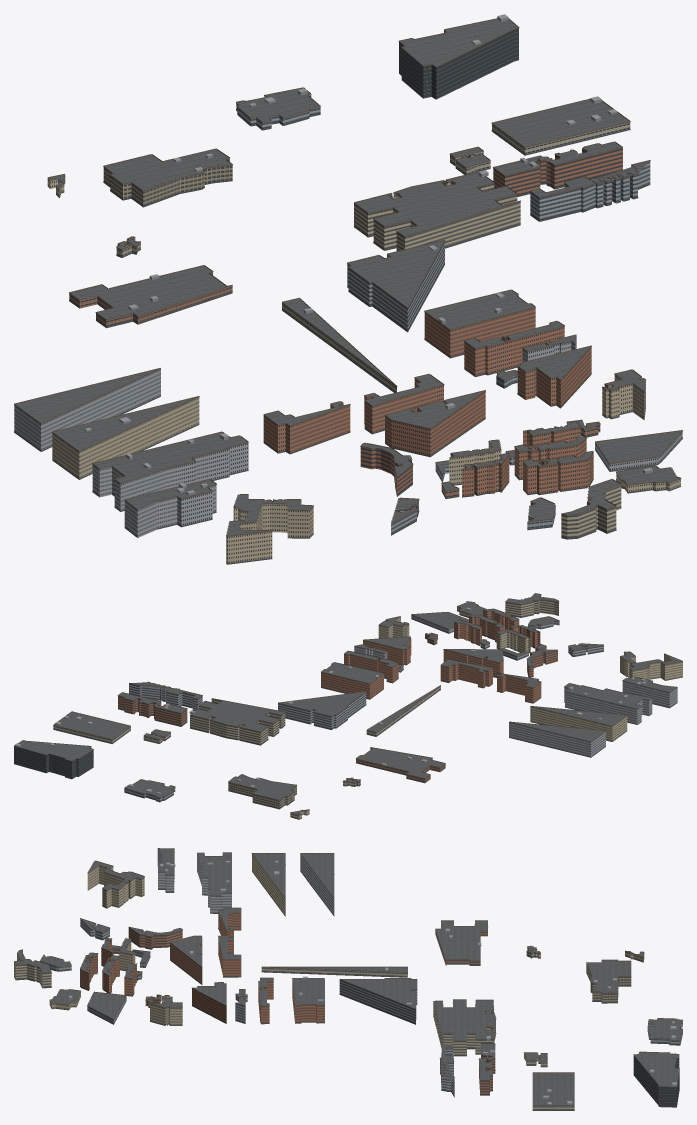
The model's file is north_buildings.glb.
3 renders of one model, top to bottom at view 1: azimuth 30°, elevation 25°; view 2: azimuth 150°, elevation 25°; view 3: azimuth 270°, elevation 25°, orthographic. The views are drawn at different scales.
Parts seen in each view (by area): view 1: N002, N007, N006, N005, N004, N003, N001, N008, N042, N010, N015, N009 (+21 smaller); view 2: N002, N006, N004, N007, N001, N005, N003, N010, N008, N042, N016, N015 (+19 smaller); view 3: N002, N001, N006, N003, N015, N007, N042, N008, N010, N004, N005, N012 (+17 smaller).
Part boxes in pixels (x1,y1,x2,y2): N002: (354, 170, 520, 250); N007: (92, 431, 248, 511); N006: (398, 14, 519, 99); N005: (52, 396, 199, 479); N004: (14, 368, 160, 451); N003: (69, 265, 232, 328); N001: (347, 239, 445, 332); N008: (103, 148, 232, 207); N042: (491, 96, 630, 155); N010: (424, 289, 535, 358); N015: (226, 494, 313, 564); N009: (384, 390, 485, 457); N002: (189, 698, 285, 745); N006: (14, 740, 93, 779); N004: (509, 721, 605, 757); N007: (564, 683, 652, 724); N001: (278, 691, 366, 729); N005: (530, 706, 627, 741); N003: (355, 747, 445, 783); N010: (321, 662, 384, 699); N008: (228, 774, 296, 809); N042: (53, 711, 130, 743); N016: (117, 692, 187, 726); N015: (620, 651, 682, 680); N002: (433, 999, 496, 1056); N001: (339, 978, 417, 1024); N006: (633, 1051, 679, 1107); N003: (435, 920, 487, 965); N015: (87, 860, 144, 908); N007: (197, 852, 231, 913); N042: (532, 1072, 574, 1110); N008: (586, 959, 631, 1003); N010: (292, 976, 324, 1023); N004: (300, 853, 334, 916); N005: (251, 853, 285, 916); N012: (261, 966, 407, 977).
Size of the model in its own units: 717 by 30.6 by 829.
Materials: 15 (12 with a texture image).
